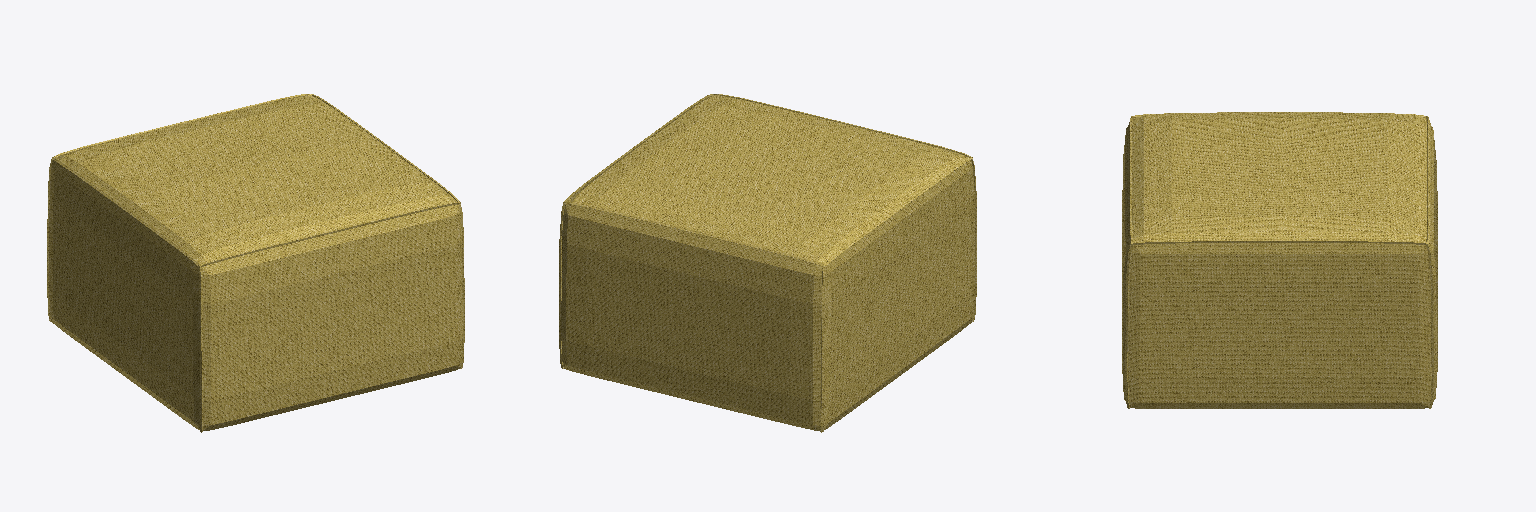
3 renders of one model, left to right at view 1: azimuth 30°, elevation 25°; view 2: azimuth 150°, elevation 25°; view 3: azimuth 270°, elevation 25°, orthographic.
Visible parts, largest first — view 1: Box854; view 2: Box854; view 3: Box854.
Part boxes in pixels (bbox=[...]): Box854: bbox=[47, 94, 464, 432]; Box854: bbox=[559, 94, 976, 432]; Box854: bbox=[1122, 112, 1437, 408].
Size of the model in its own units: 63.93 by 41.76 by 65.76.
Materials: 1 (1 with a texture image).